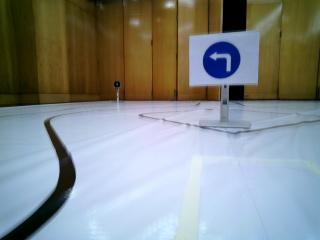left: (190, 34, 258, 84)
